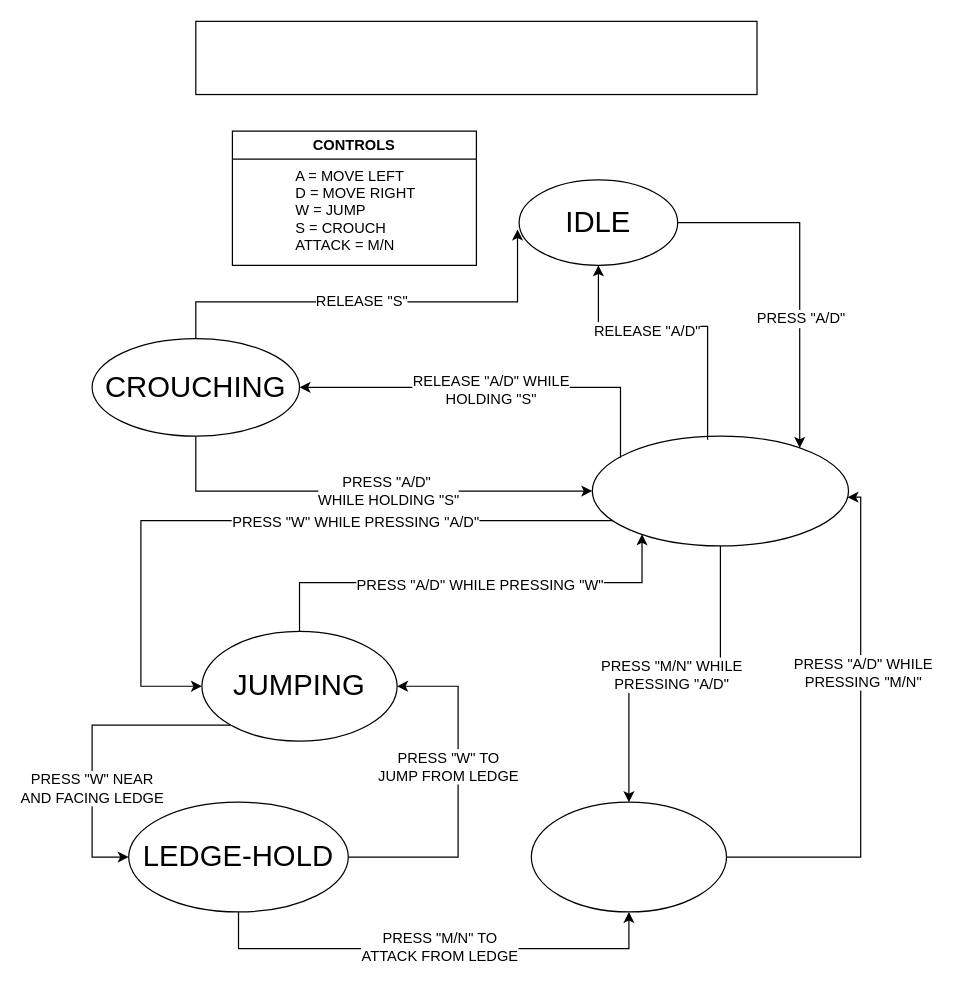
Image size: 953x986. Some labels were removed from this diagram. The centre of each missing label's shape, as x and y in pixels:
"ATTACKING" goes at (x=628, y=856).
"MOVE LEFT/RIGHT" goes at (x=720, y=490).
"PLAYER MOVEMENT STATE DIAGRAM" goes at (x=476, y=57).
